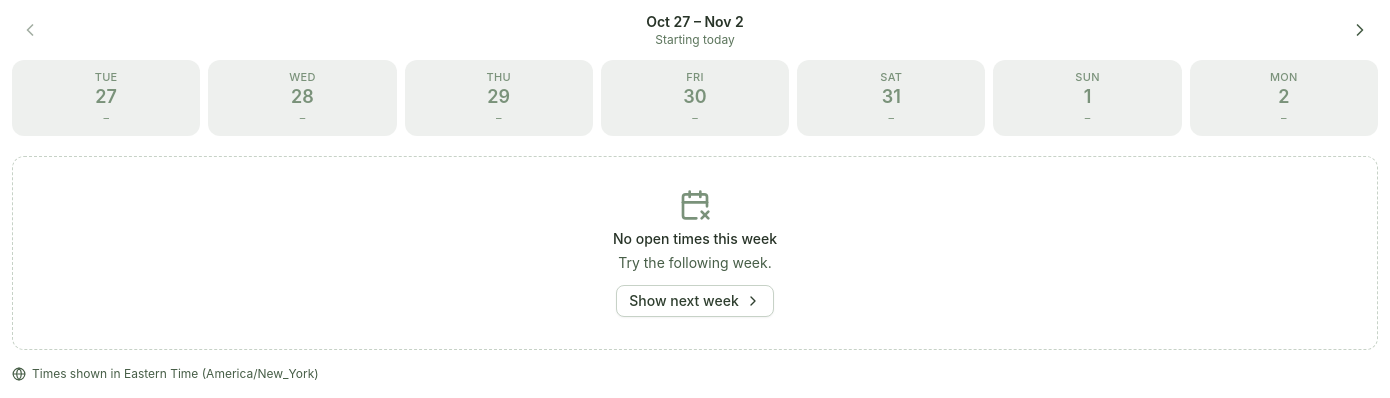
Scenario: SlotPicker › offers the next week when this week is empty
Expected: the text "No open times this week" is shown, [613,228,777,248]
Click the button "Show next week" at (695, 300), box [616,284,774,316]
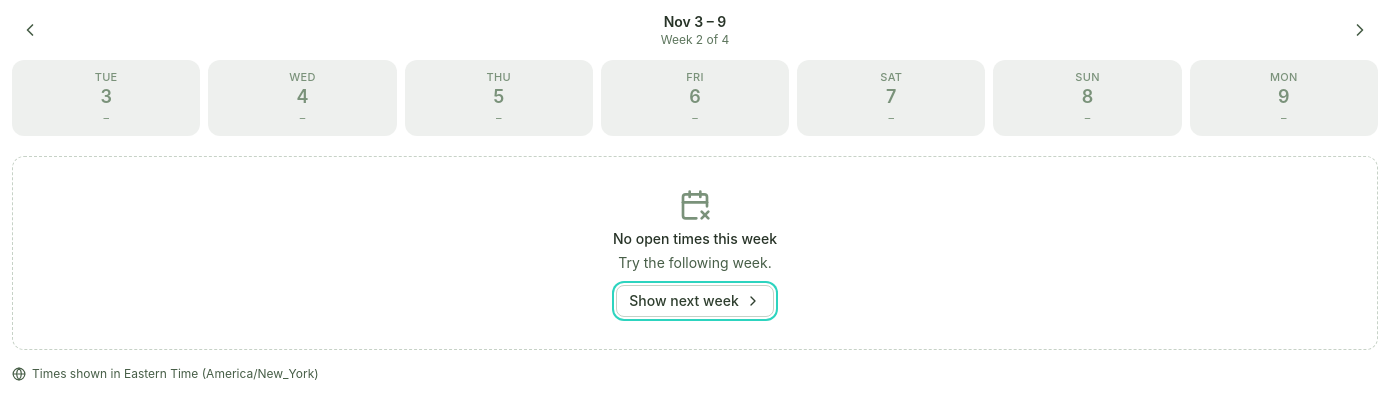
Now the text "Week 2 of 4" is shown, box [661,32,729,48]
